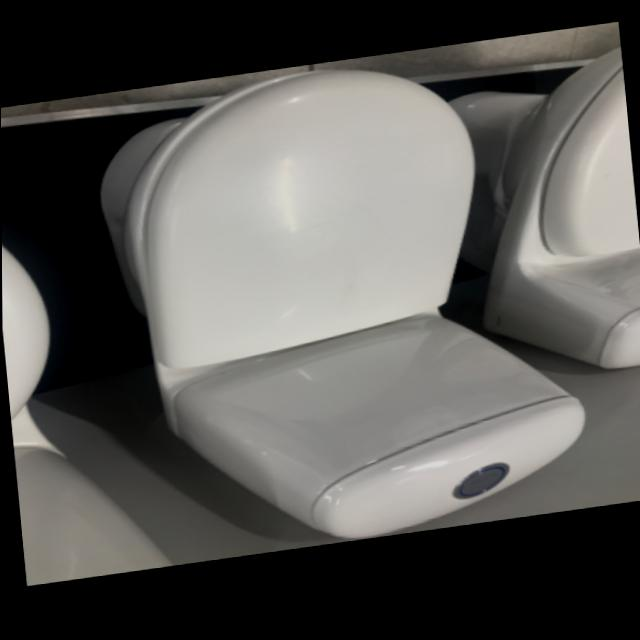toilet: (88, 41, 593, 573)
